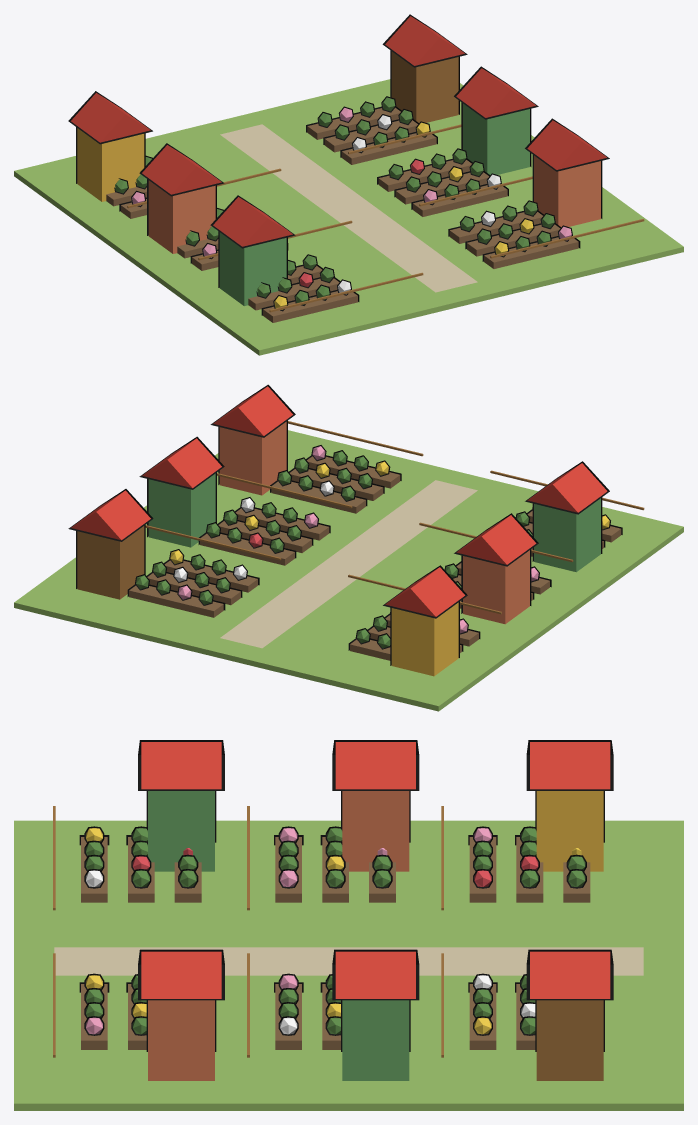
Rendered from Park_cim_hobi.fbx.
3 renders of one model, top to bottom at view 1: azimuth 30°, elevation 25°; view 2: azimuth 150°, elevation 25°; view 3: azimuth 270°, elevation 25°, orthographic. The views are drawn at different scales.
Parts seen in each view (by area): view 1: Park_cim_hobi; view 2: Park_cim_hobi; view 3: Park_cim_hobi.
Boxes of the visible parts, bbox=[...] form: Park_cim_hobi: bbox=[14, 14, 683, 355]; Park_cim_hobi: bbox=[14, 384, 683, 711]; Park_cim_hobi: bbox=[14, 740, 683, 1110].
Bounding box in the file's own units: 10 × 2.05 × 10.
